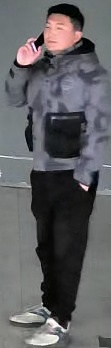phone: (4, 3, 79, 113)
